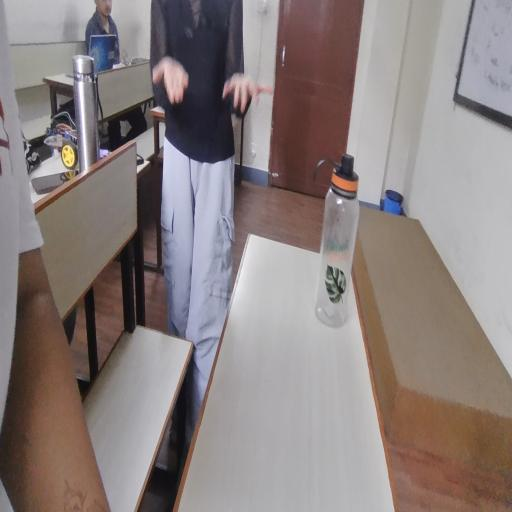Bottle: (327, 121, 357, 348)
